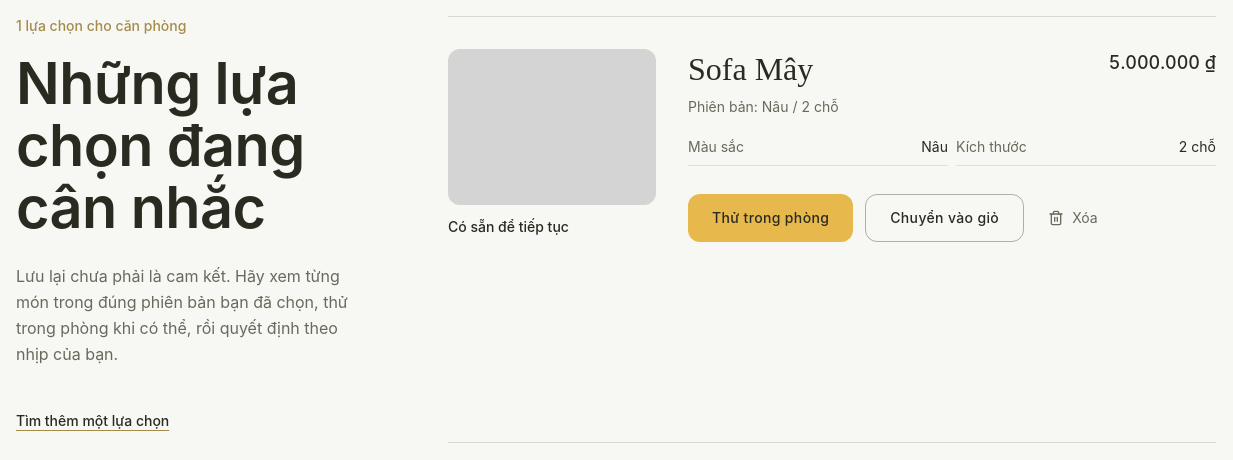
it: WishlistPage › shows an inline error and keeps the item when stock is insufficient
Expected: the text "Phiên bản: Nâu / 2 chỗ" is shown, left=688, top=97, right=839, bottom=117
Click the button "Chuyển vào giỏ".
click(945, 218)  # box left=865, top=194, right=1024, bottom=242
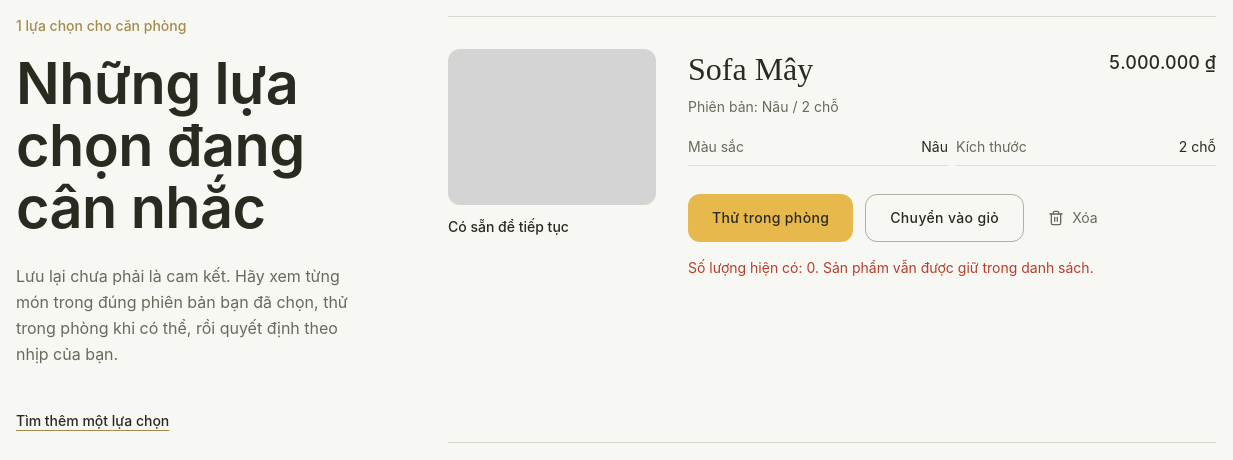
Expected: the text "Phiên bản: Nâu / 2 chỗ" is shown, left=688, top=97, right=839, bottom=117
Expected: the text "Số lượng hiện có: 0. Sản phẩm vẫn được giữ trong danh sách." is shown, left=688, top=259, right=1094, bottom=276
